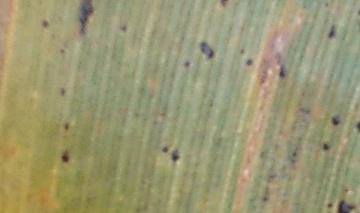tarspot: (75, 1, 94, 37), (198, 41, 216, 59), (337, 198, 355, 213), (326, 24, 336, 39), (61, 148, 70, 164), (277, 63, 286, 79), (171, 147, 180, 162), (330, 115, 341, 127), (243, 56, 253, 67), (57, 86, 67, 96), (119, 22, 128, 33), (218, 1, 229, 9), (40, 19, 49, 28), (182, 60, 191, 68), (321, 142, 330, 150), (355, 119, 360, 133), (58, 47, 66, 55), (63, 123, 70, 132), (161, 145, 168, 153), (326, 202, 333, 209), (323, 1, 330, 8), (239, 48, 245, 55), (357, 6, 360, 19)
